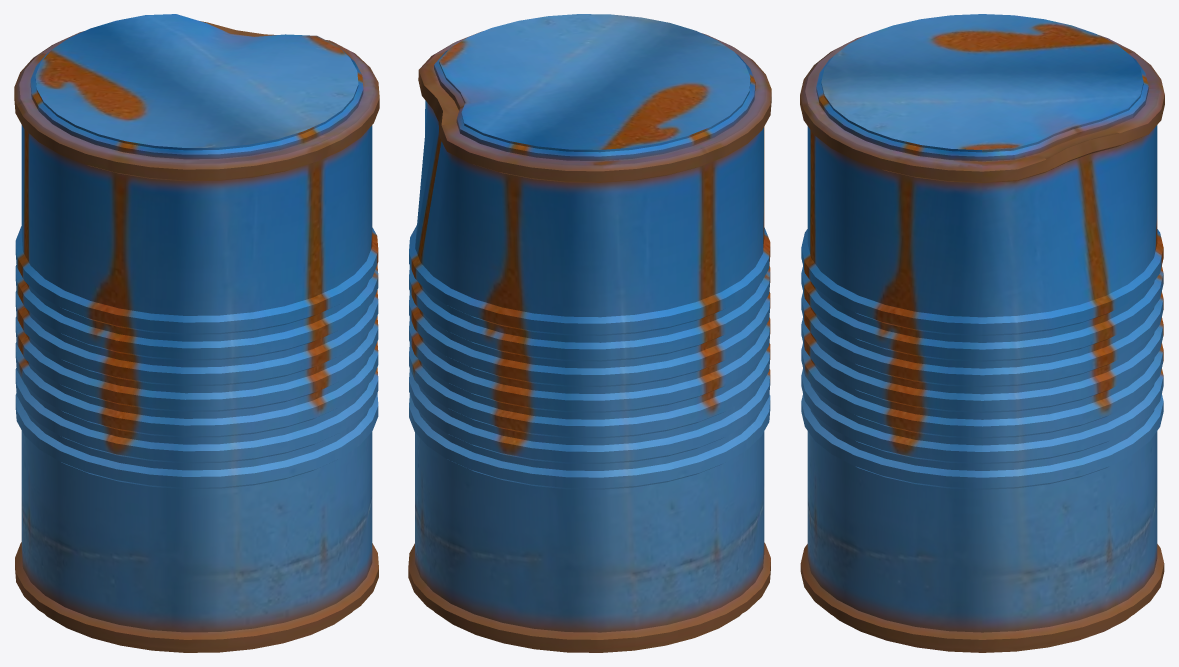
File: model-simple.glb
3 views of the same model, side by side, from view 1: azimuth 30°, elevation 25°; view 2: azimuth 150°, elevation 25°; view 3: azimuth 270°, elevation 25° (orthographic).
Parts seen in each view (by area): view 1: oil-drum; view 2: oil-drum; view 3: oil-drum.
Part boxes in pixels (bbox=[...]): oil-drum: bbox=[14, 14, 379, 652]; oil-drum: bbox=[408, 14, 771, 652]; oil-drum: bbox=[800, 14, 1164, 652].
Bounding box in the file's own units: 0.584 × 0.88 × 0.584.
Materials: 1 (1 with a texture image).
